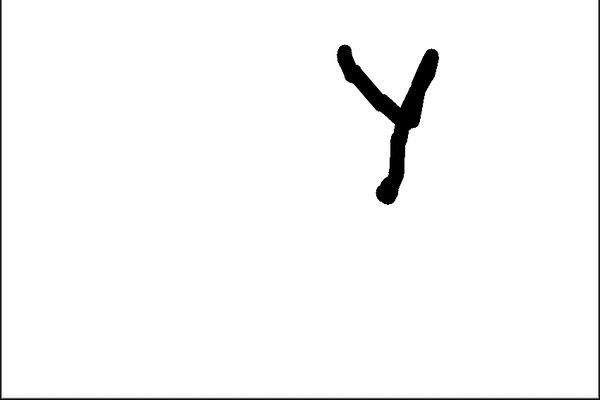Y: (315, 34, 452, 223)
